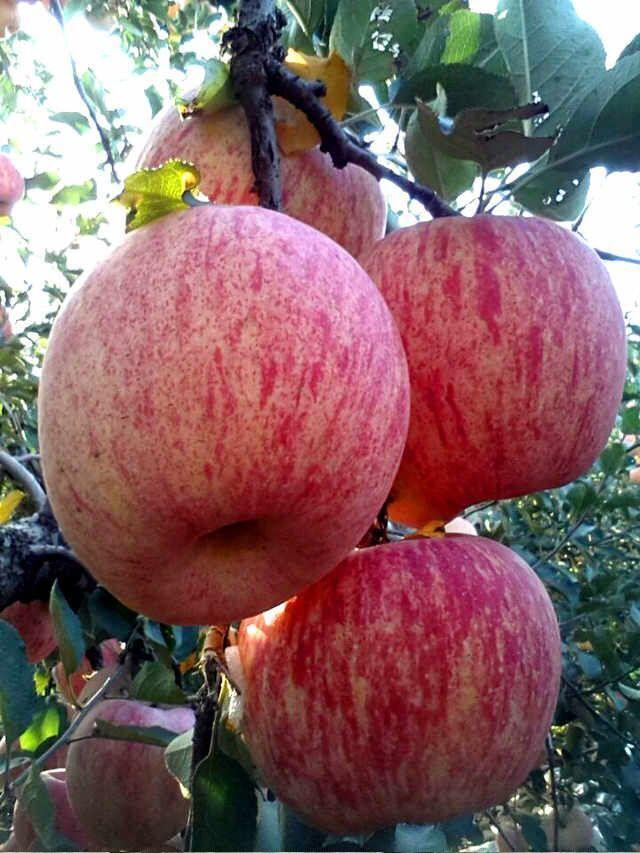apple: (33, 202, 405, 647), (240, 527, 573, 831), (347, 217, 627, 514)
